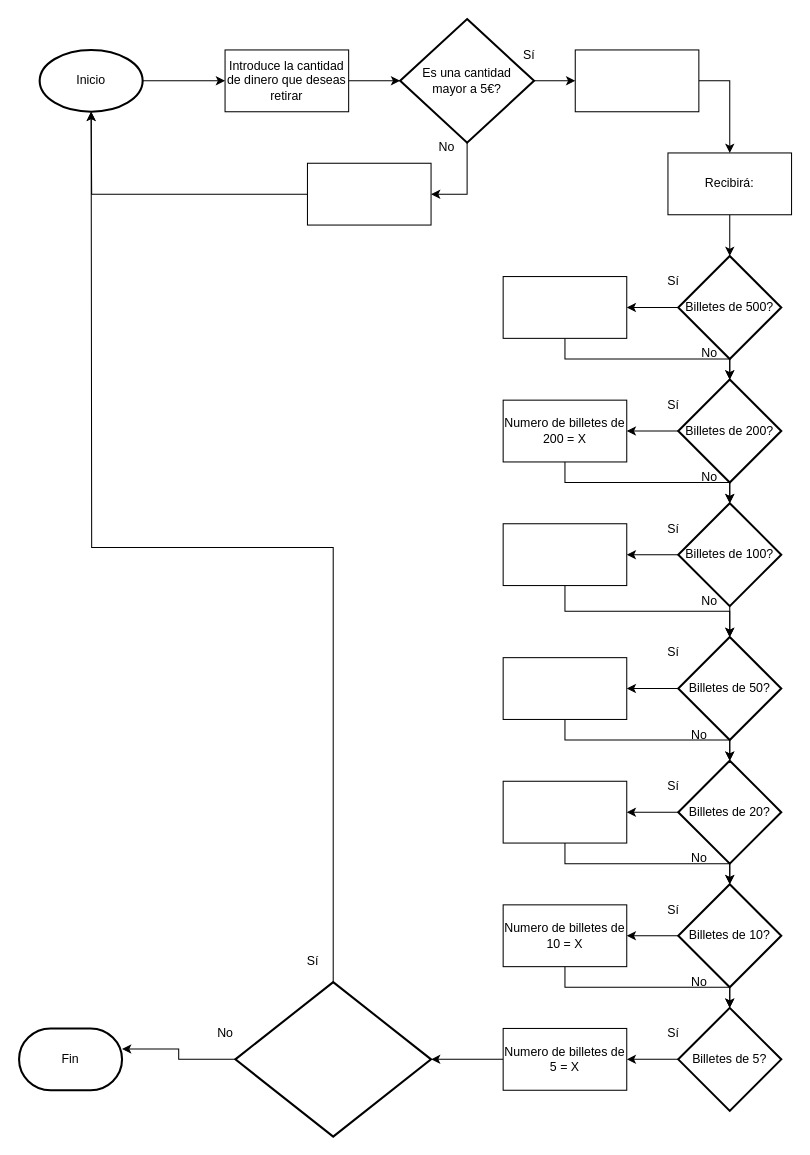
This 810x1155 diagram has some shape labels left out. Each missing label, with the centre of its shape:
Deseas continuar realizando operaciones?: point (333, 1059)
Numero de billetes de 100 = X: point (564, 554)
Numero de billetes de 20 = X: point (564, 811)
Numero de billetes de 50 = X: point (564, 688)
Numero de billetes de 500 = X: point (564, 307)
Seleccione una cantidad mayor que 5€: point (368, 193)
Usted quiere retirar X euros: point (636, 80)
